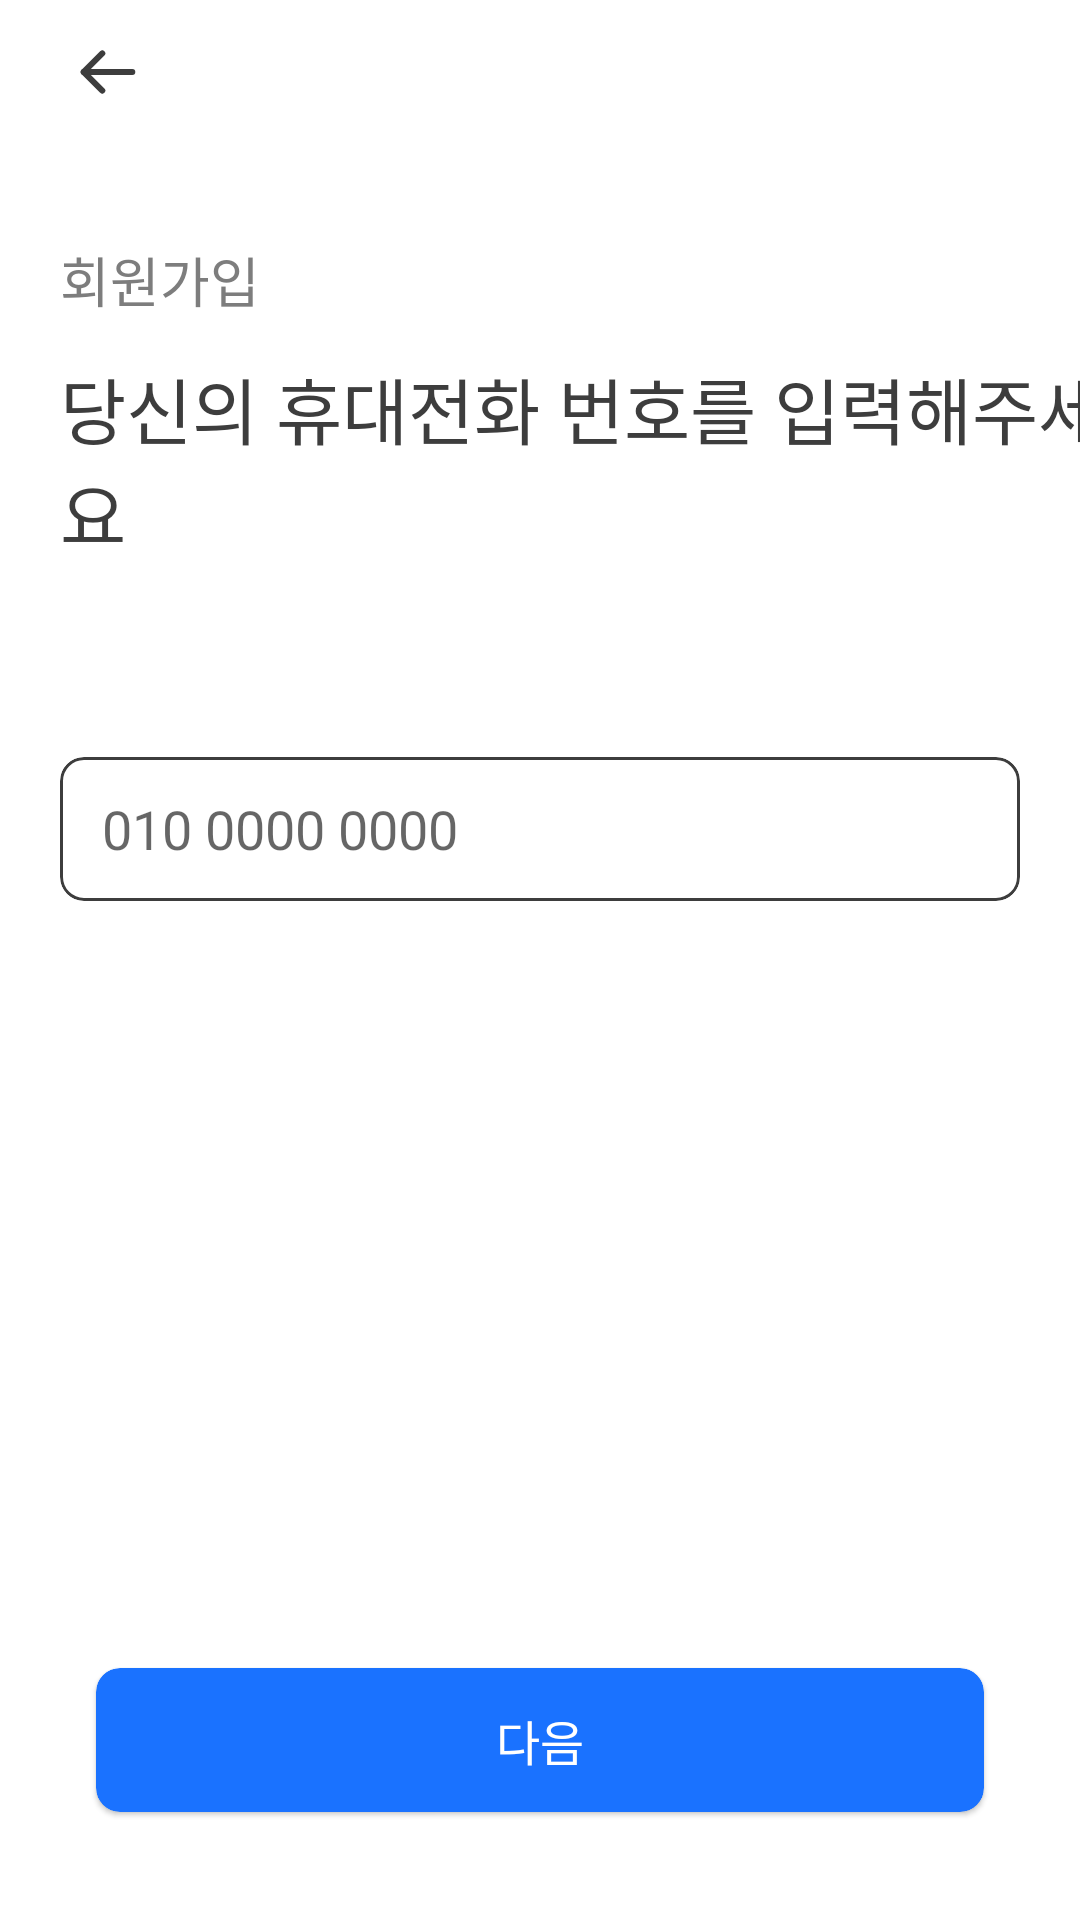

Named icons in this screenshot (1080×1920) and their bounding boxes, (x1, y1, x2, y2):
back: (80, 50, 136, 94)
